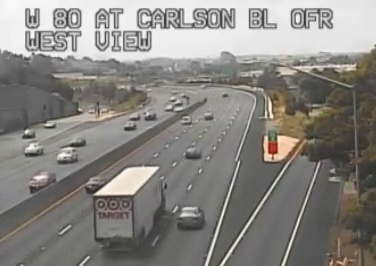car: (176, 206, 203, 229), (85, 177, 108, 192), (186, 147, 200, 158)
truck: (93, 166, 165, 252)
